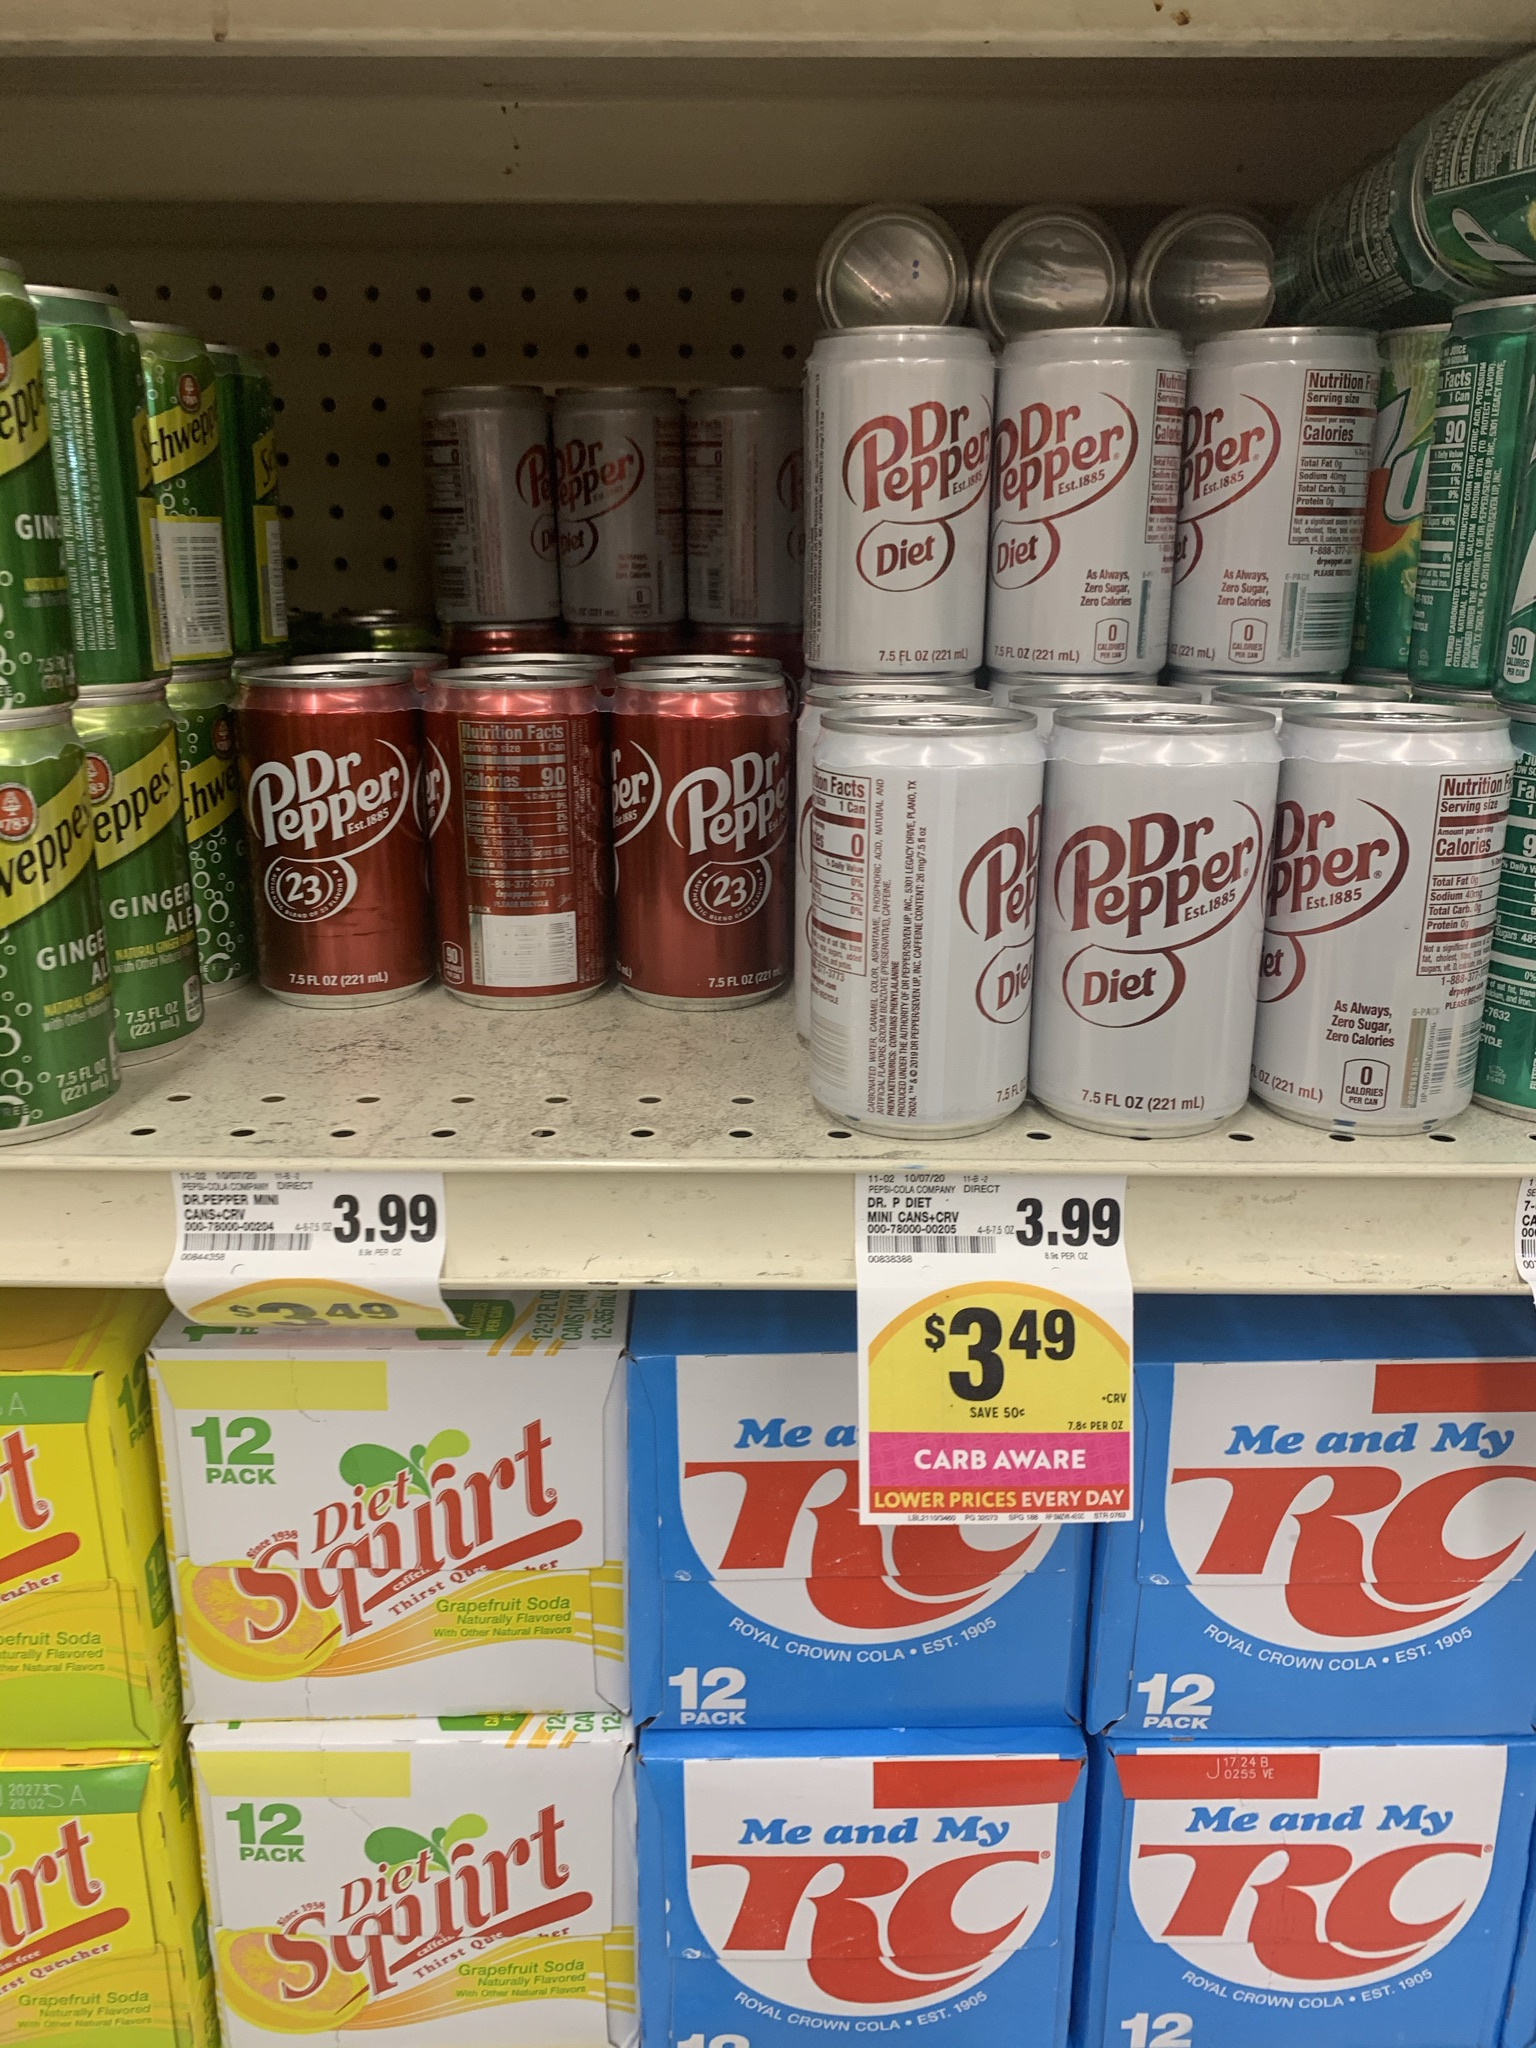box: (189, 1343, 670, 1717), (1155, 1379, 1536, 1740), (198, 1753, 626, 2048), (665, 1780, 1075, 2042), (1118, 1766, 1505, 2040)
can: (824, 743, 1013, 1119), (1058, 722, 1233, 1118), (1305, 714, 1468, 1101), (997, 326, 1170, 674), (820, 321, 984, 676), (1191, 326, 1354, 656), (253, 666, 415, 997), (620, 664, 778, 1001), (428, 676, 597, 987), (105, 710, 194, 1039), (2, 726, 65, 1126), (560, 393, 663, 621), (437, 398, 539, 618), (700, 402, 792, 619)
